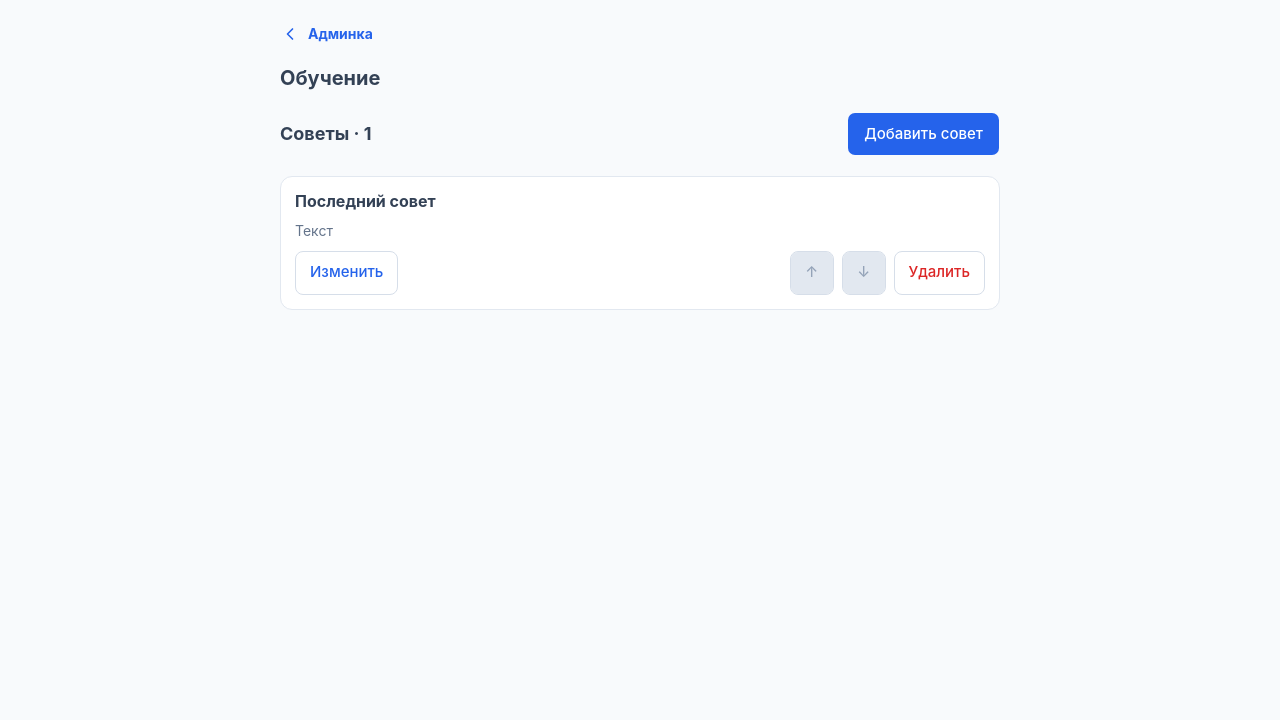
Test: confirms deletion by title, permits cancellation, retains failed deletion and deletes the last tip
The width and height of the screenshot is (1280, 720).
Expected: the button named "Поднять совет Последний совет" is disabled, x1=790 y1=251 x2=834 y2=295
Expected: the button named "Опустить совет Последний совет" is disabled, x1=842 y1=251 x2=886 y2=295
Click the button with aria-label "Удалить Последний совет": (939, 273) x1=894 y1=251 x2=985 y2=295
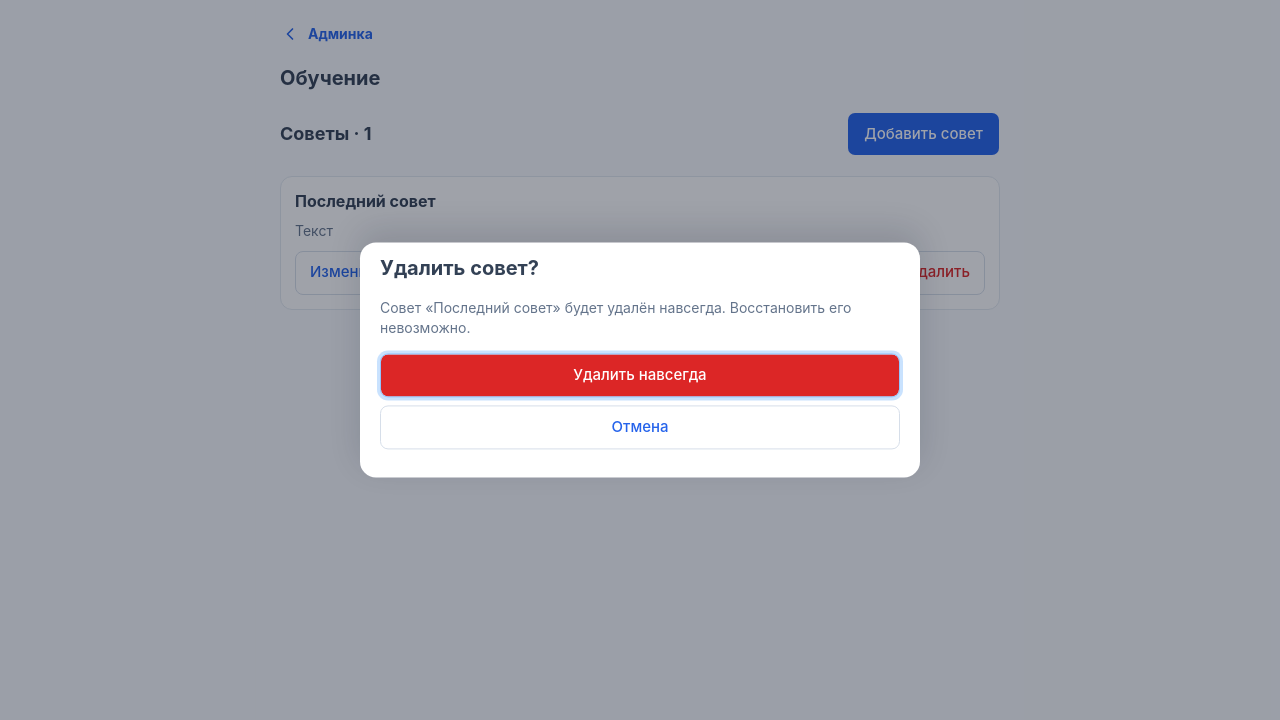
Expected: the dialog shows "Совет «Последний совет» будет удалён навсегда. Восстановить его невозможно.", x1=380 y1=299 x2=852 y2=336
Click the button "Отмена": (640, 428) x1=380 y1=406 x2=900 y2=450
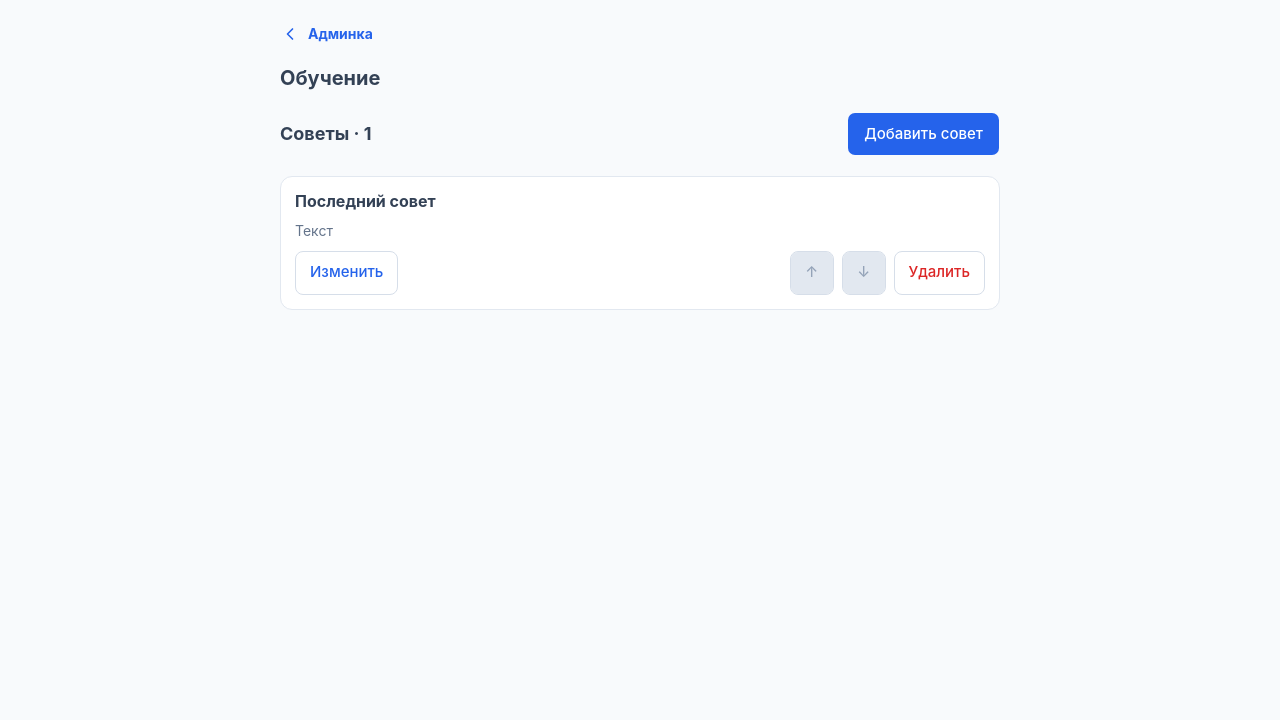
Click the button with aria-label "Удалить Последний совет": (939, 273) x1=894 y1=251 x2=985 y2=295
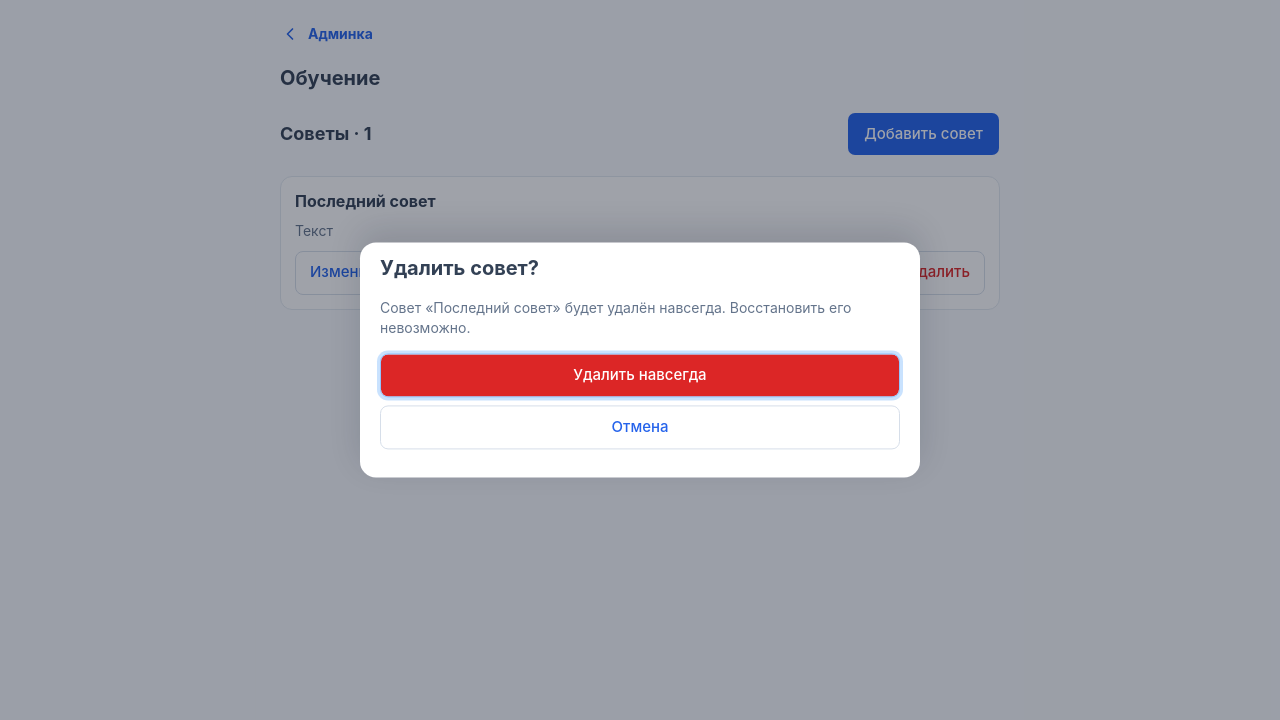
Click the button "Удалить навсегда": (640, 376) x1=380 y1=354 x2=900 y2=398
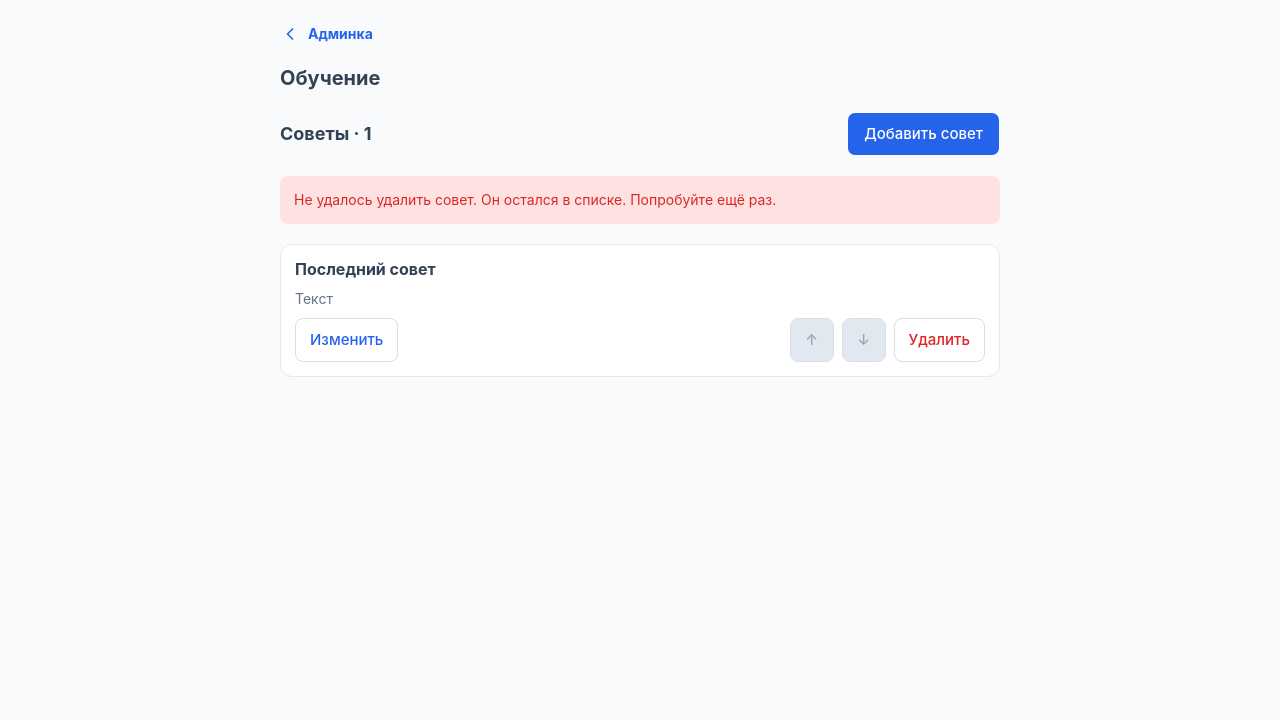
Expected: the heading "Последний совет" is shown, x1=295 y1=259 x2=436 y2=279
Expected: the message shows "Не удалось удалить совет", x1=294 y1=191 x2=776 y2=208
Click the button with aria-label "Удалить Последний совет": (939, 340) x1=894 y1=318 x2=985 y2=362
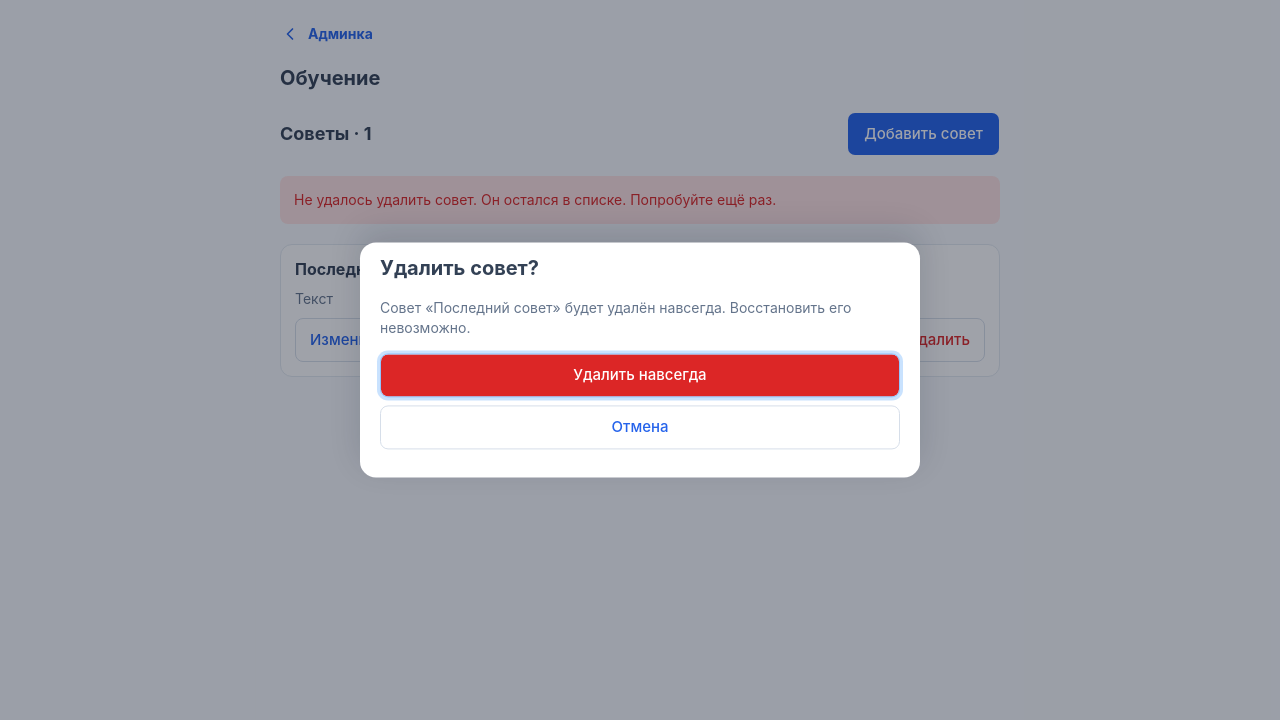
Click the button "Удалить навсегда": (640, 376) x1=380 y1=354 x2=900 y2=398
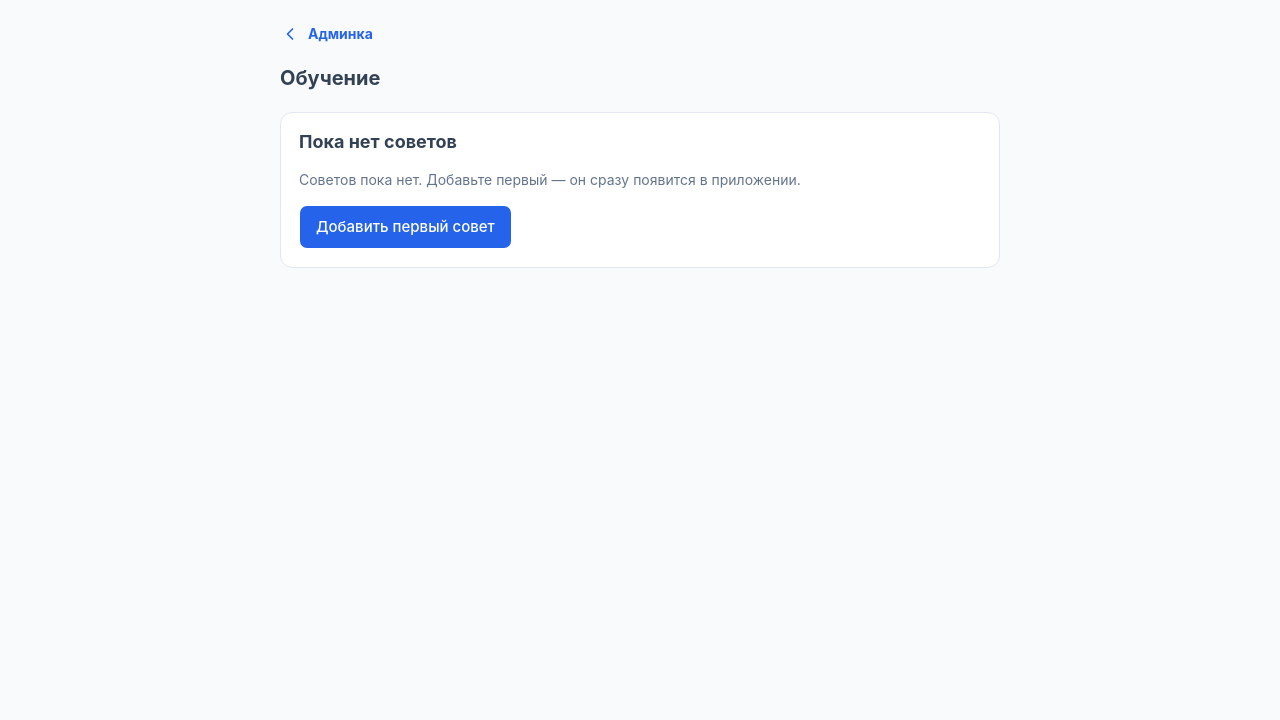
Expected: the link "Добавить первый совет" is shown, x1=299 y1=205 x2=512 y2=249
